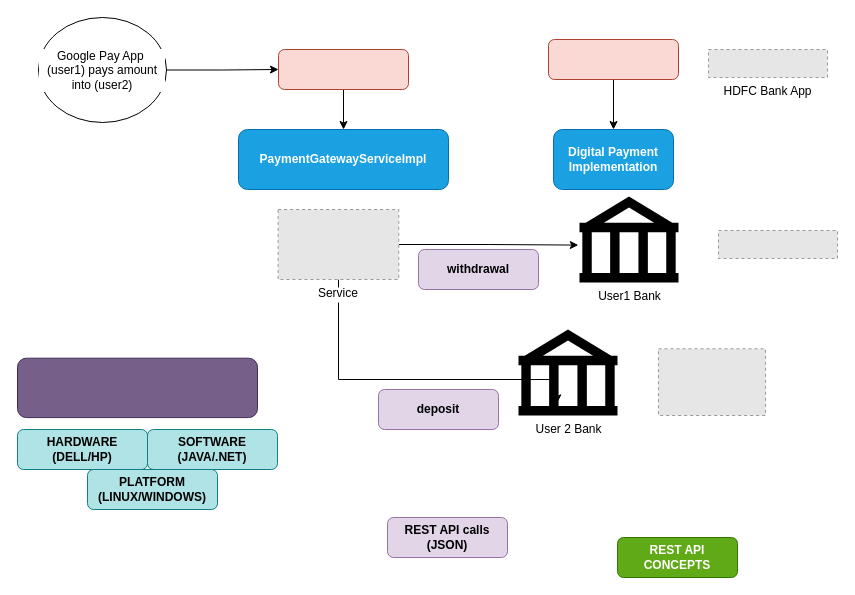
Some shapes in this 855 by 595 pixel diagram are drawn without their labels. Grey dashed boxes stand in for pictures. The centre of each missing label's shape, as x and y in pixels:
B2B COMUNICATION: point 137,387
DigitalPayment (interface): point 613,59
PaymentGateway (interface): point 343,69
